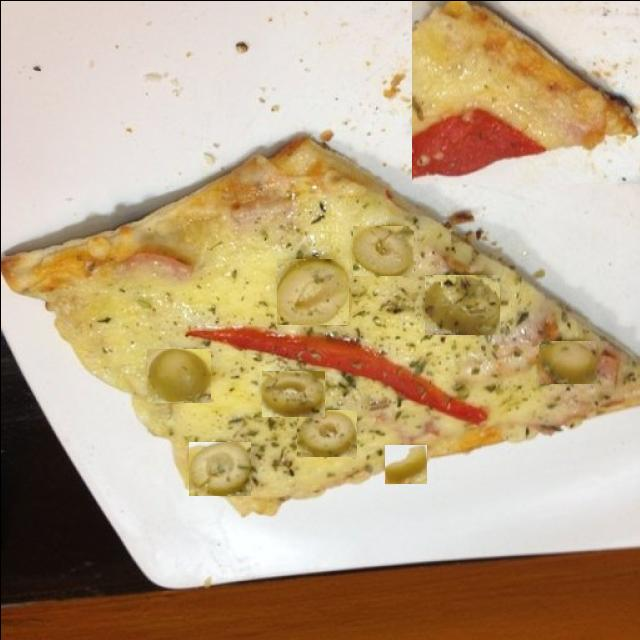olive: (276, 258, 348, 324), (424, 274, 499, 334), (146, 348, 210, 402), (188, 441, 250, 495), (352, 225, 413, 275), (261, 370, 324, 416), (296, 409, 356, 456), (538, 340, 596, 383), (384, 444, 426, 483)
pepperoni: (508, 109, 640, 178)
pizza: (5, 135, 640, 517), (411, 0, 640, 183)
